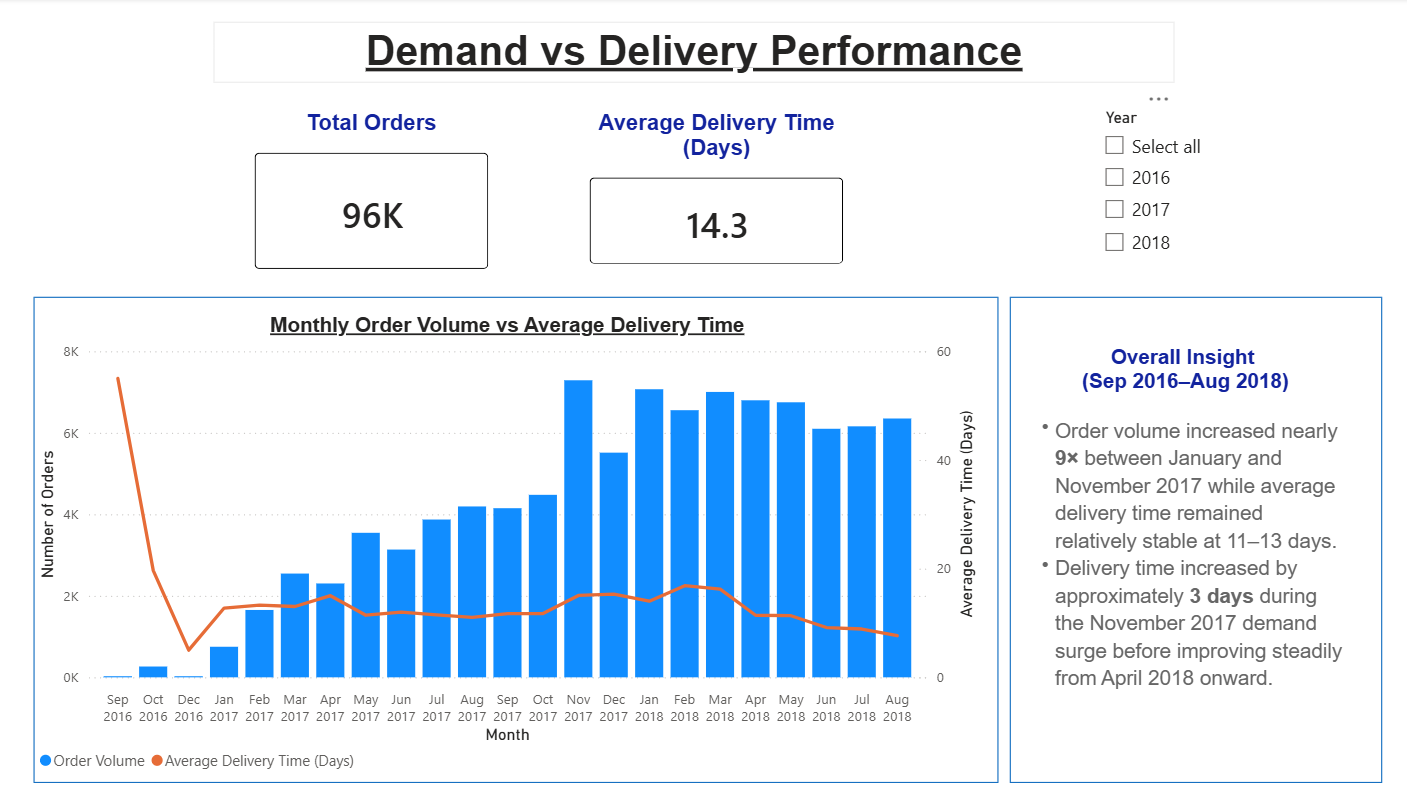

The page's visual inventory and layout, read from the dashboard file:
{"tool":"powerbi","page":{"name":"Demand vs Delivery Performance","canvas":[1280,720],"ordinal":1},"visuals":[{"type":"lineClusteredColumnComboChart","title":"Monthly Order Volume vs Average Delivery Time","fields":{"Category":["Demand vs Performance.YearMonth"],"Y2":["Avg(Demand vs Performance.avg_delivery_days)"],"Y":["Sum(Demand vs Performance.total_orders)"]},"box":[33.9,284.5,855.9,423.4],"z":0},{"type":"cardVisual","title":"Total Orders","fields":{"Data":["Sum(Demand vs Performance.total_orders)"]},"box":[216.8,100.5,245,161.5],"z":1000},{"type":"cardVisual","title":"Average Delivery Time (Days)","fields":{"Data":["Avg(Demand vs Performance.avg_delivery_days)"]},"box":[519.4,100.5,263.1,157],"z":2000},{"type":"textbox","box":[196.5,21.5,868.3,55.3],"z":3000},{"type":"textbox","box":[923.6,372.6,302.6,280],"z":4000},{"type":"textbox","box":[905.6,309.4,337.6,63.2],"z":5000},{"type":"slicer","fields":{"Values":["Demand vs Performance.Year"]},"box":[989.1,94.8,150.2,168.2],"z":6000},{"type":"shape","box":[915.7,269.9,336.5,439.2],"z":7000},{"type":"shape","box":[33.9,269.9,871.7,439.2],"z":8000}]}

Visuals, with their boxes in screenshot pixels (x1, y1, x2, y2), scaled from the page's 1280x720 canvas onto the 1407x792 screenshot:
"Monthly Order Volume vs Average Delivery Time" lineClusteredColumnComboChart: 37/313/978/779
"Total Orders" cardVisual: 238/111/508/288
"Average Delivery Time (Days)" cardVisual: 571/111/860/283
textbox: 216/24/1170/84
textbox: 1015/410/1348/718
textbox: 995/340/1367/410
slicer - Demand vs Performance.Year: 1087/104/1252/289
shape: 1007/297/1376/780
shape: 37/297/995/780
